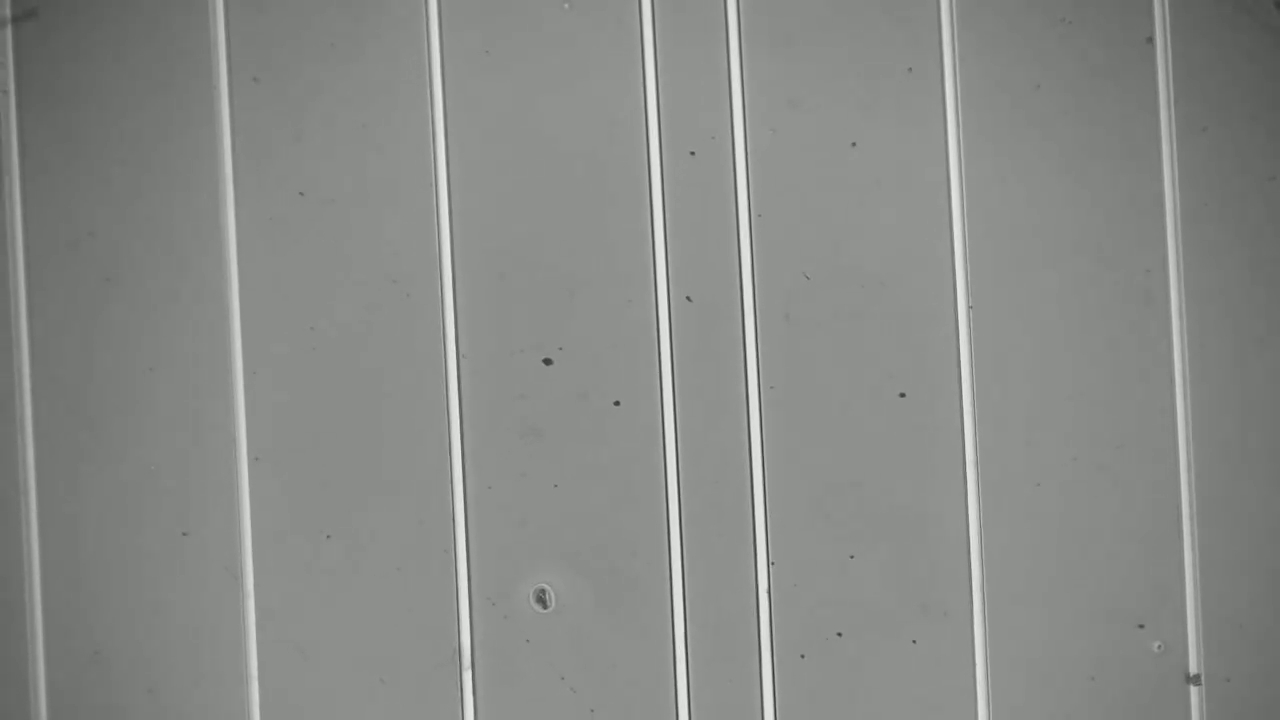stains_enbedded: (1181, 663, 1214, 695)
